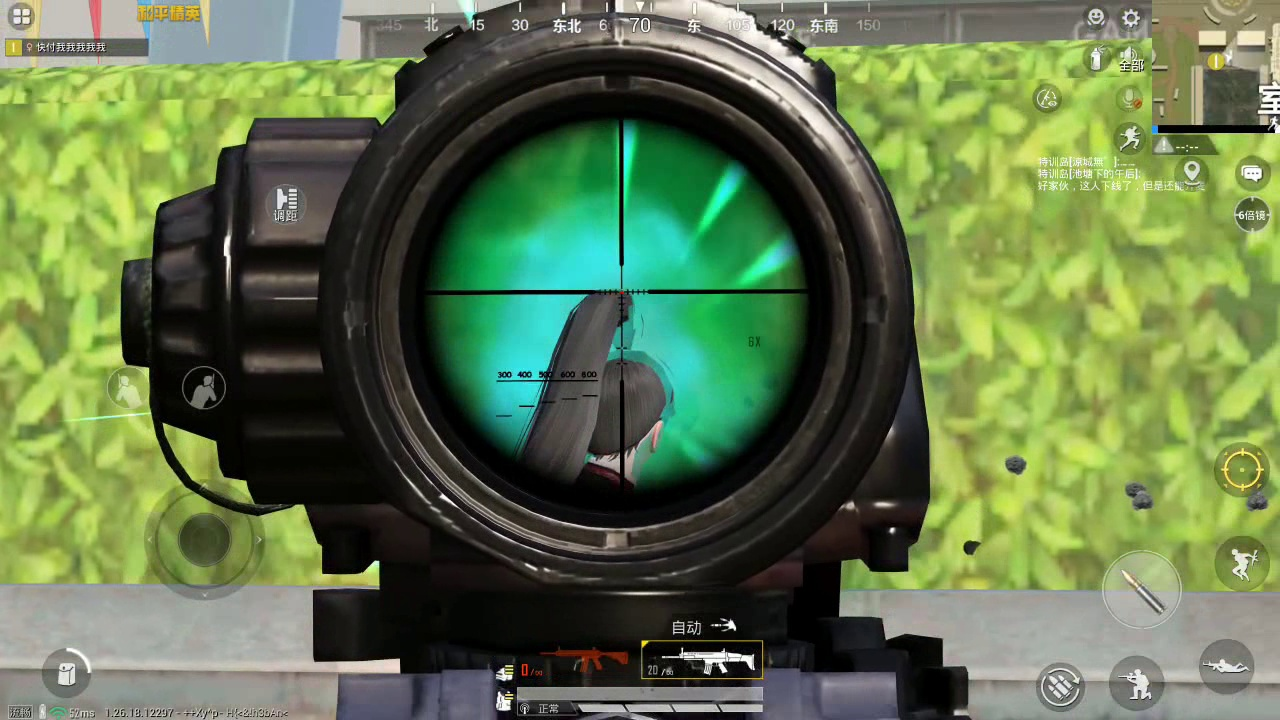enemy: (513, 286, 680, 499)
